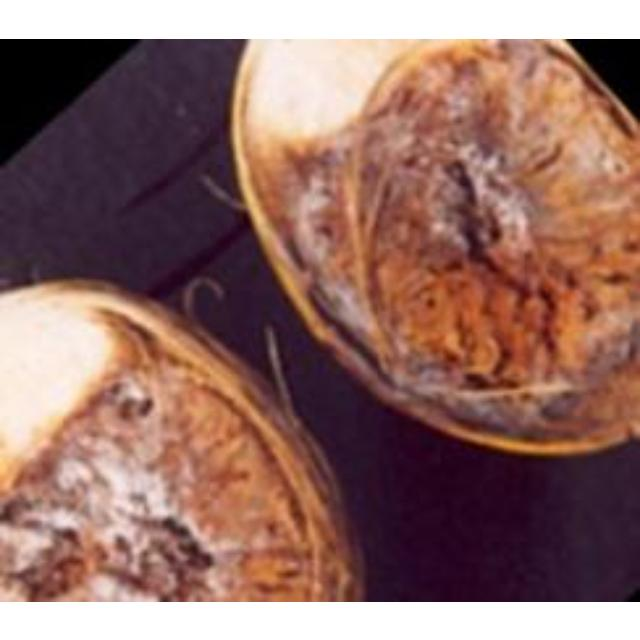damaged: (226, 38, 637, 460), (0, 277, 365, 599)
